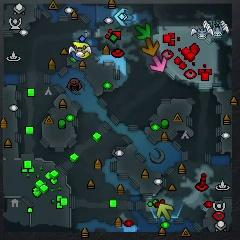p1: (72, 49, 86, 61)
p4: (72, 41, 92, 58)
x1: (150, 54, 167, 72)
x2: (157, 203, 174, 222)
x3: (114, 8, 133, 26)
x4: (135, 24, 152, 40)
x5: (142, 37, 160, 56)
